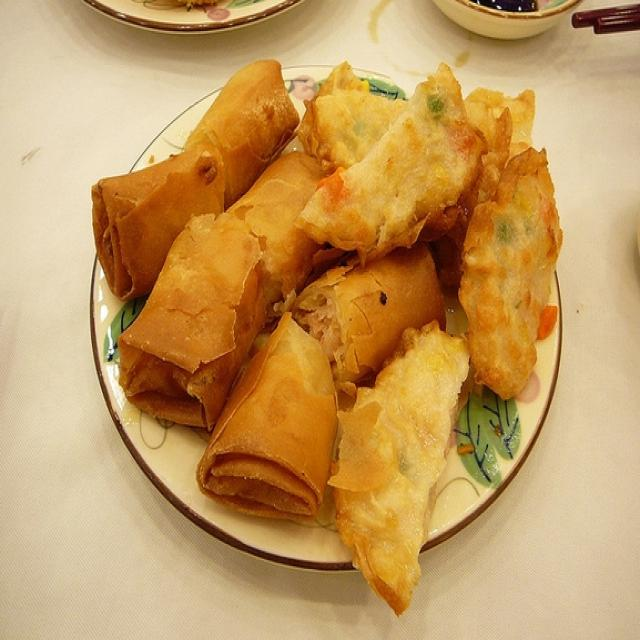炸货点心: (90, 53, 576, 599)
熟制海鲜: (90, 53, 576, 599)
